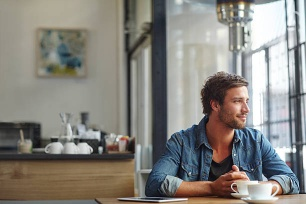male: (199, 74, 254, 134)
